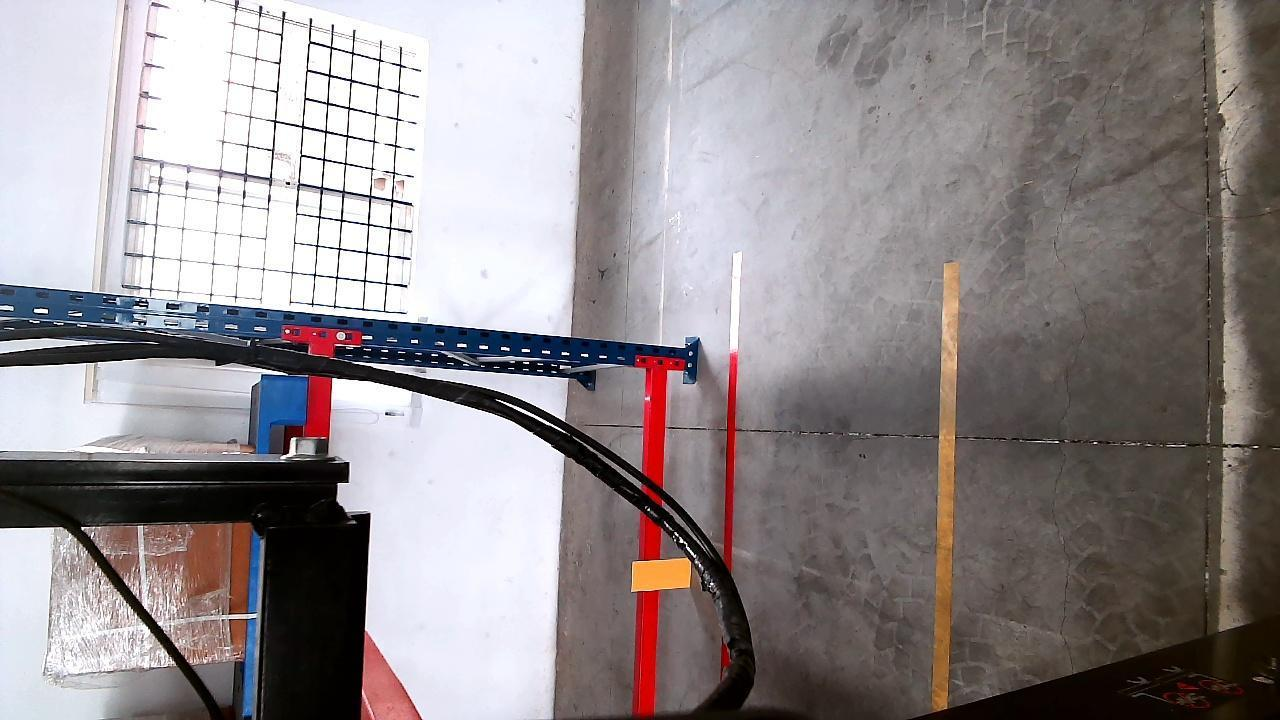h_rack: (632, 362, 668, 720)
orange_strip: (634, 556, 695, 591)
red_line: (718, 351, 742, 568)
yellow_line: (933, 263, 960, 702)
